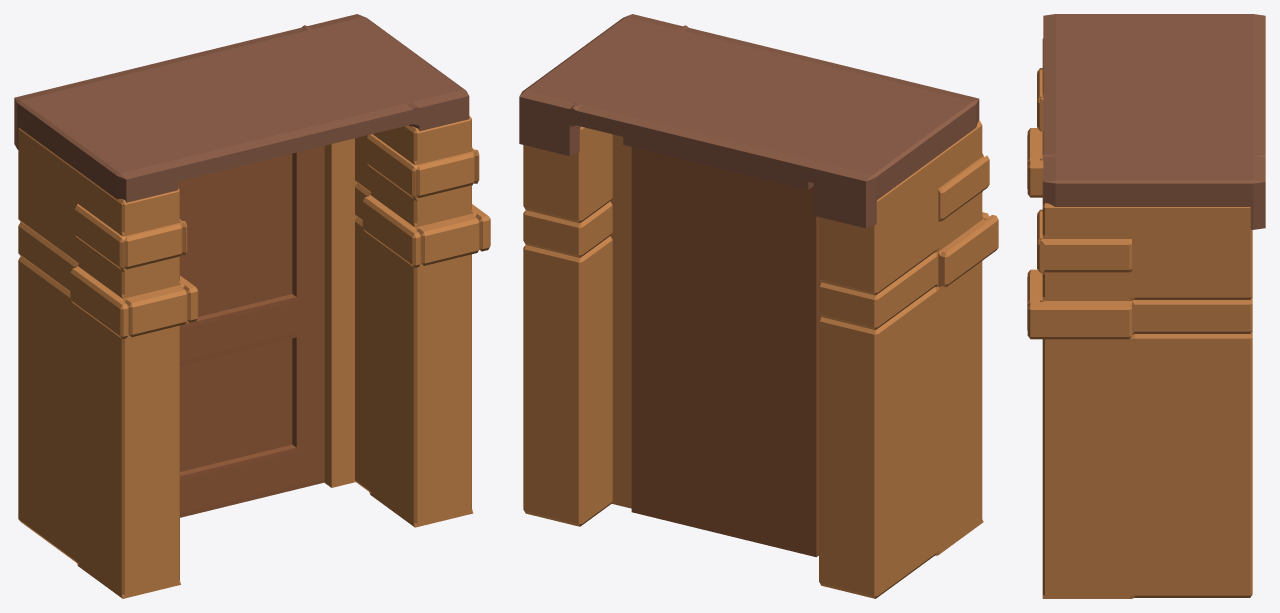
The model's file is OfficeDoorWay.fbx.
The picture shows the model from 3 angles, left to right: view 1: azimuth 30°, elevation 25°; view 2: azimuth 150°, elevation 25°; view 3: azimuth 270°, elevation 25°; orthographic projection.
Parts seen in each view (by area): view 1: Cube.006, Icosphere; view 2: Cube.006, Icosphere; view 3: Cube.006.
Boxes of the visible parts, x1,y1,x2,y2 form: Cube.006: (14, 14, 490, 598); Icosphere: (178, 146, 324, 517); Cube.006: (519, 14, 998, 598); Icosphere: (631, 147, 819, 557); Cube.006: (1027, 14, 1265, 598).
Size of the model in its own units: 189 by 205 by 106.
